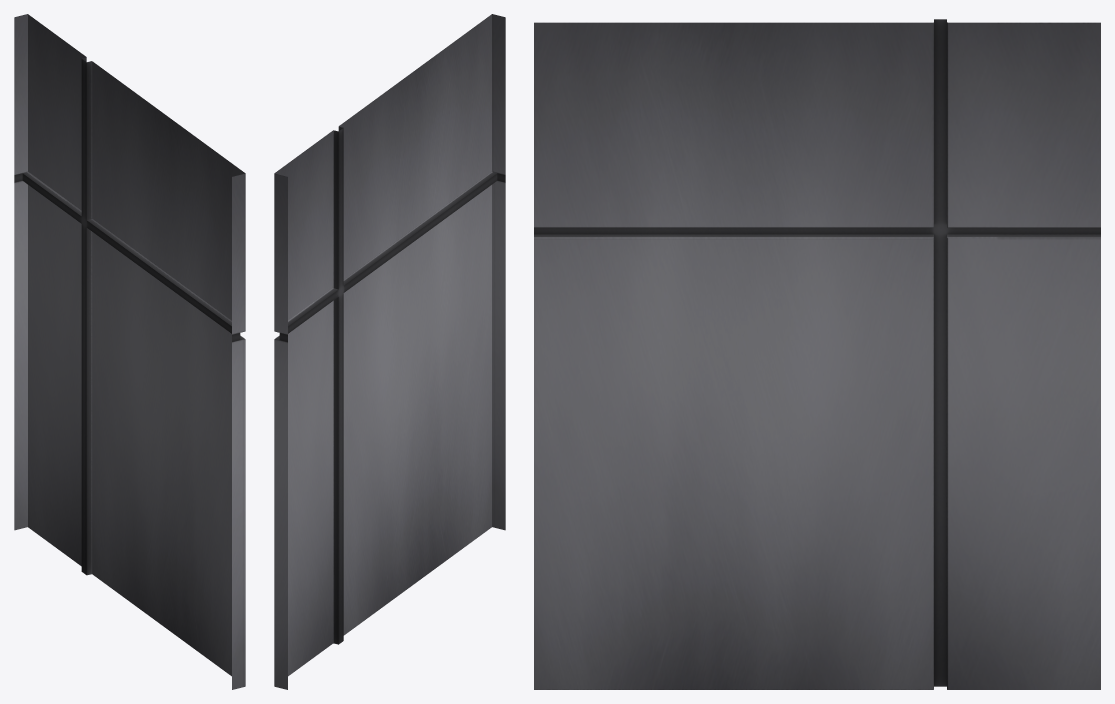
File: VAL_4U_HB.fbx
3 renders of one model, left to right at view 1: azimuth 30°, elevation 25°; view 2: azimuth 150°, elevation 25°; view 3: azimuth 270°, elevation 25°, orthographic. The views are drawn at different scales.
Visible parts, largest first — view 1: VAL_4U_HB; view 2: VAL_4U_HB; view 3: VAL_4U_HB.
Boxes of the visible parts, x1,y1,x2,y2 form: VAL_4U_HB: (14, 14, 245, 689); VAL_4U_HB: (274, 14, 505, 689); VAL_4U_HB: (534, 19, 1100, 689).
Bounding box in the file's own units: 0.125 × 4.5 × 3.46.
